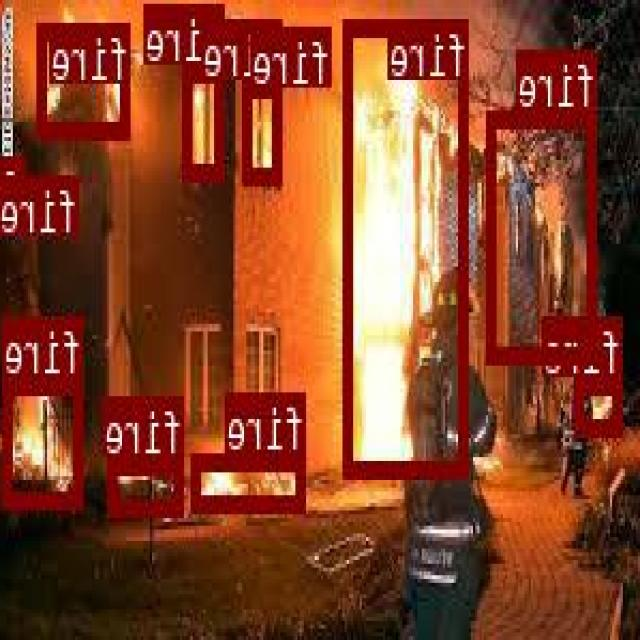fire: (347, 17, 470, 474), (490, 110, 598, 361), (39, 22, 133, 134), (6, 376, 84, 504), (194, 452, 308, 510), (186, 63, 226, 179), (110, 456, 185, 513), (244, 78, 284, 182), (260, 26, 334, 75), (577, 374, 623, 432), (4, 153, 27, 221), (60, 173, 80, 196)
